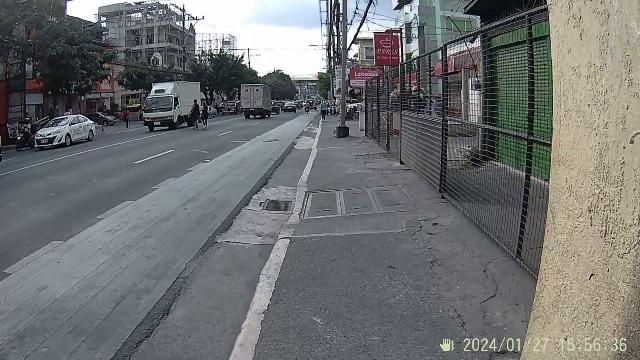utility_post: (338, 27, 350, 141), (180, 6, 204, 62)
